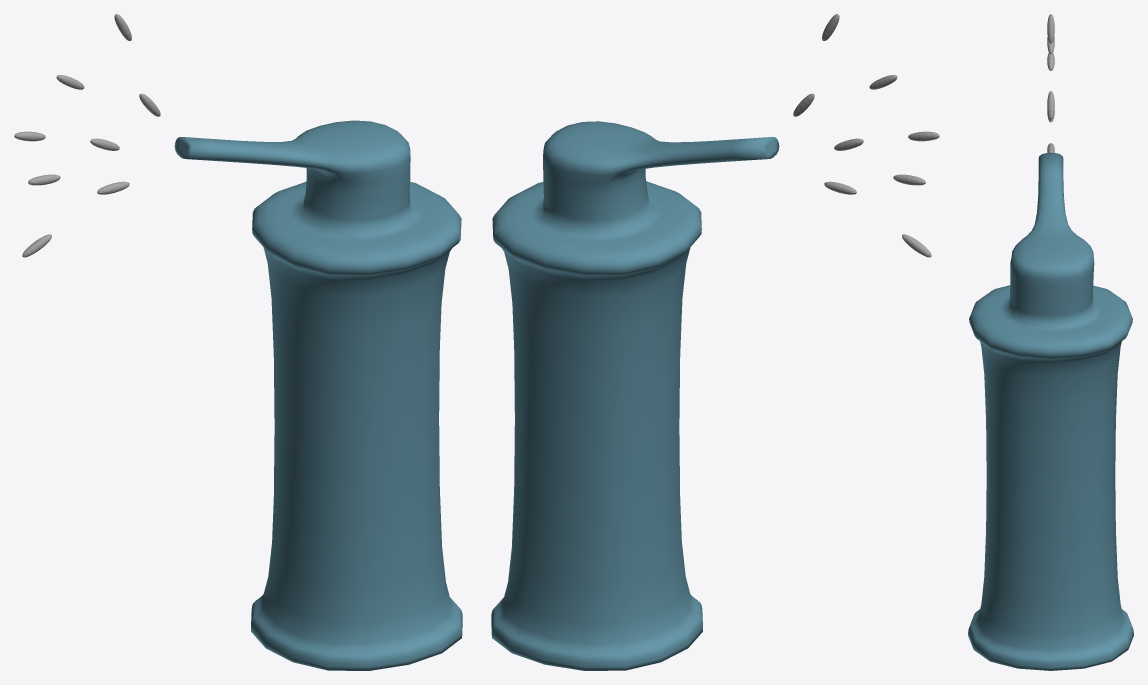
File: psychotropic-spray.obj
3 renders of one model, left to right at view 1: azimuth 30°, elevation 25°; view 2: azimuth 150°, elevation 25°; view 3: azimuth 270°, elevation 25°, orthographic. The views are drawn at different scales.
Visible parts, largest first — view 1: Psychtropic_Spray_Cube.4126; view 2: Psychtropic_Spray_Cube.4126; view 3: Psychtropic_Spray_Cube.4126.
Part boxes in pixels (x1,y1,x2,y2): Psychtropic_Spray_Cube.4126: (14,14,462,670); Psychtropic_Spray_Cube.4126: (491,14,939,670); Psychtropic_Spray_Cube.4126: (968,14,1133,670).
Size of the model in its own units: 1.39 by 2.06 by 0.585.
